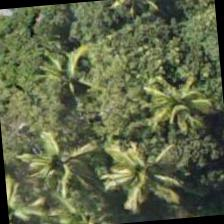Kelapa_Sawit: (129, 130, 223, 223), (138, 42, 223, 140), (0, 116, 71, 211), (4, 161, 80, 223)
